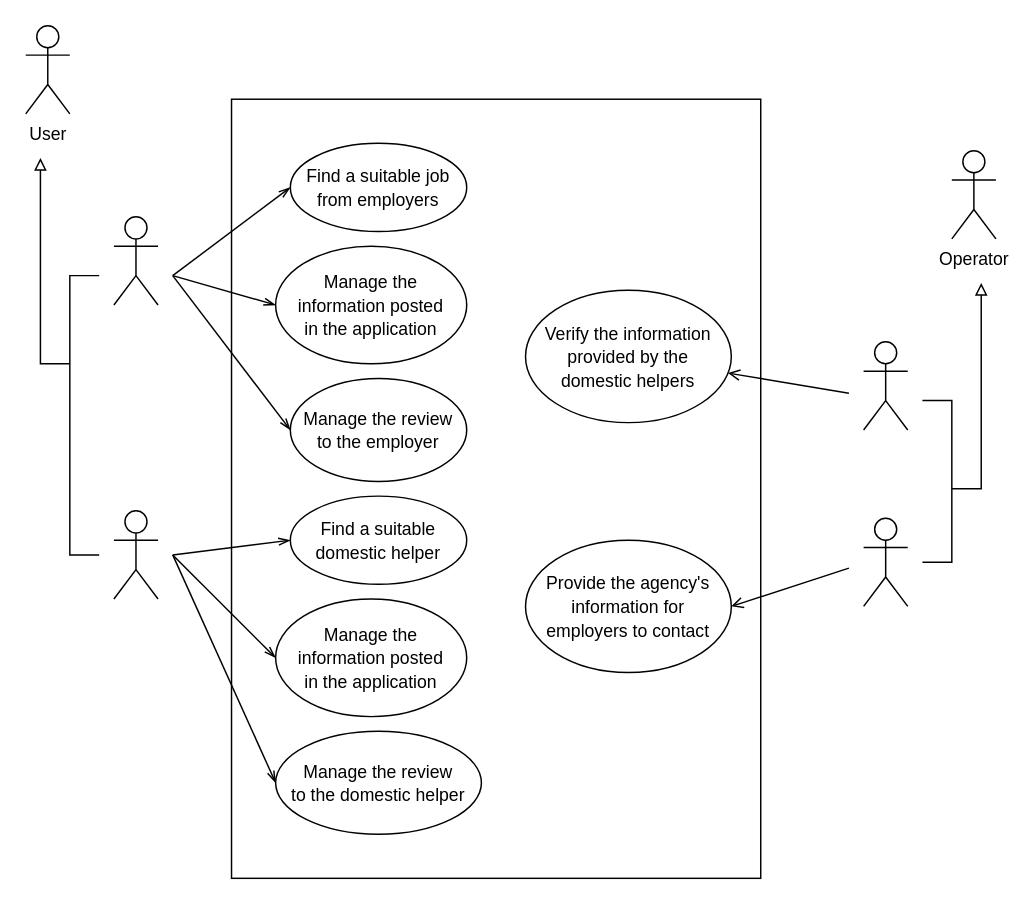
This 1033x904 diagram has some shape labels left out. The centre of each missing label's shape, as x and y in pixels:
"Agent" belongs at [885,561].
"Domestic Helper" belongs at [135,260].
"Employer" belongs at [135,554].
"Training School" belongs at [885,385].
